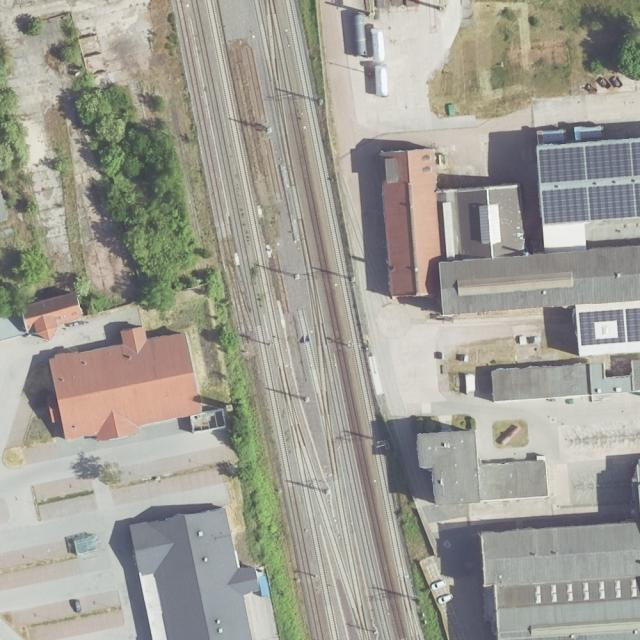PV: (538, 141, 640, 223), (579, 310, 624, 345), (627, 309, 640, 343), (597, 321, 617, 339)
